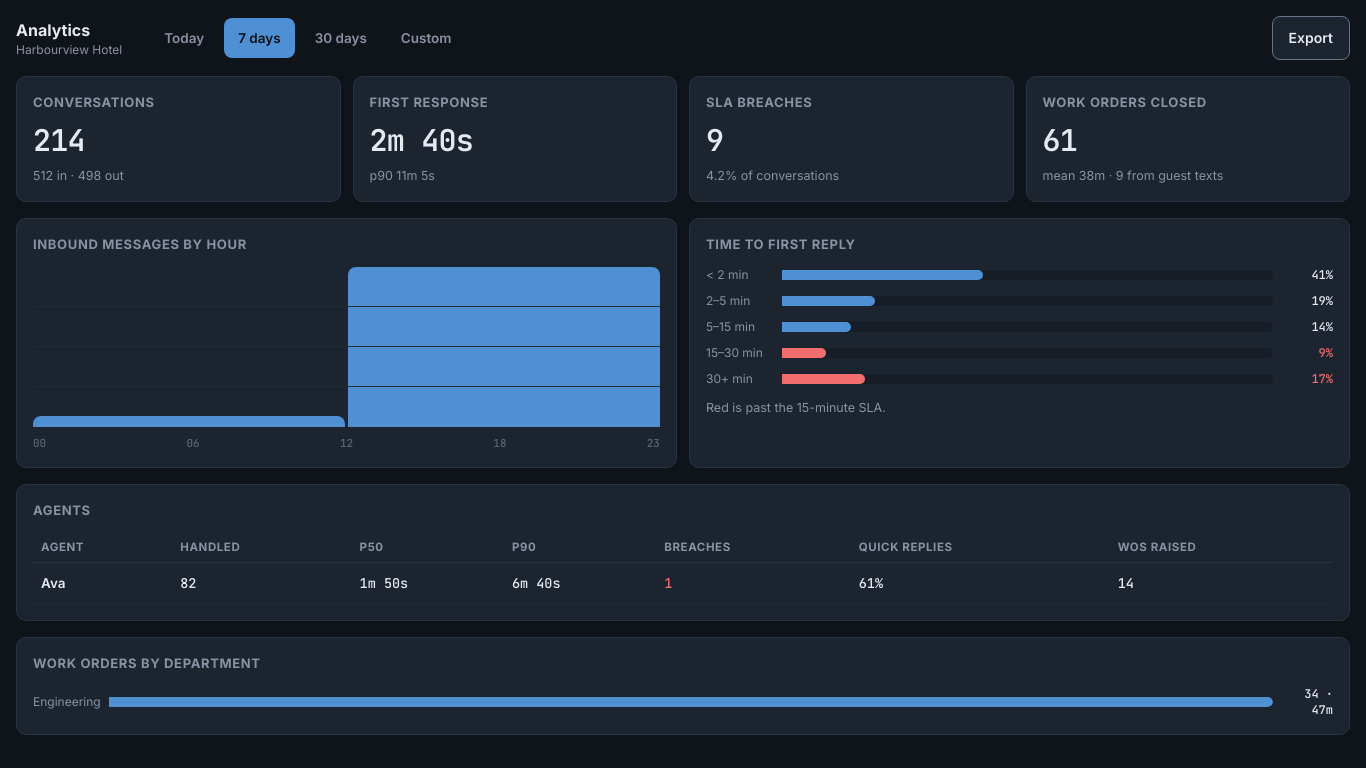
Test case: AnalyticsPage › rejects a custom range where from is after to, and does not fetch it
The image size is (1366, 768).
Check: the text "214" is shown, box [33,120,85,160]
Click the tab "Custom". click: (426, 38)
box: [387,18,466,58]
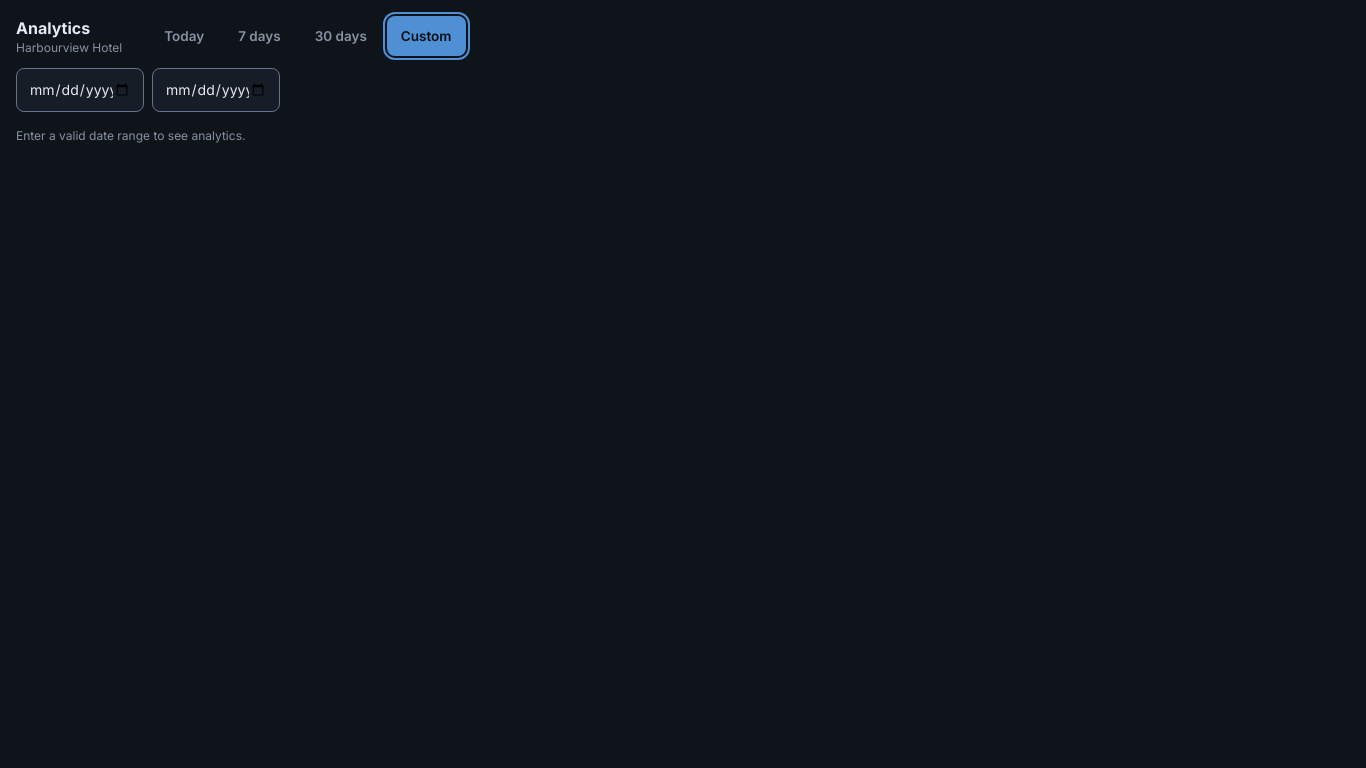
Type "2026-08-15" into the 1st date field. click: (80, 90)
box: [16,68,144,112]
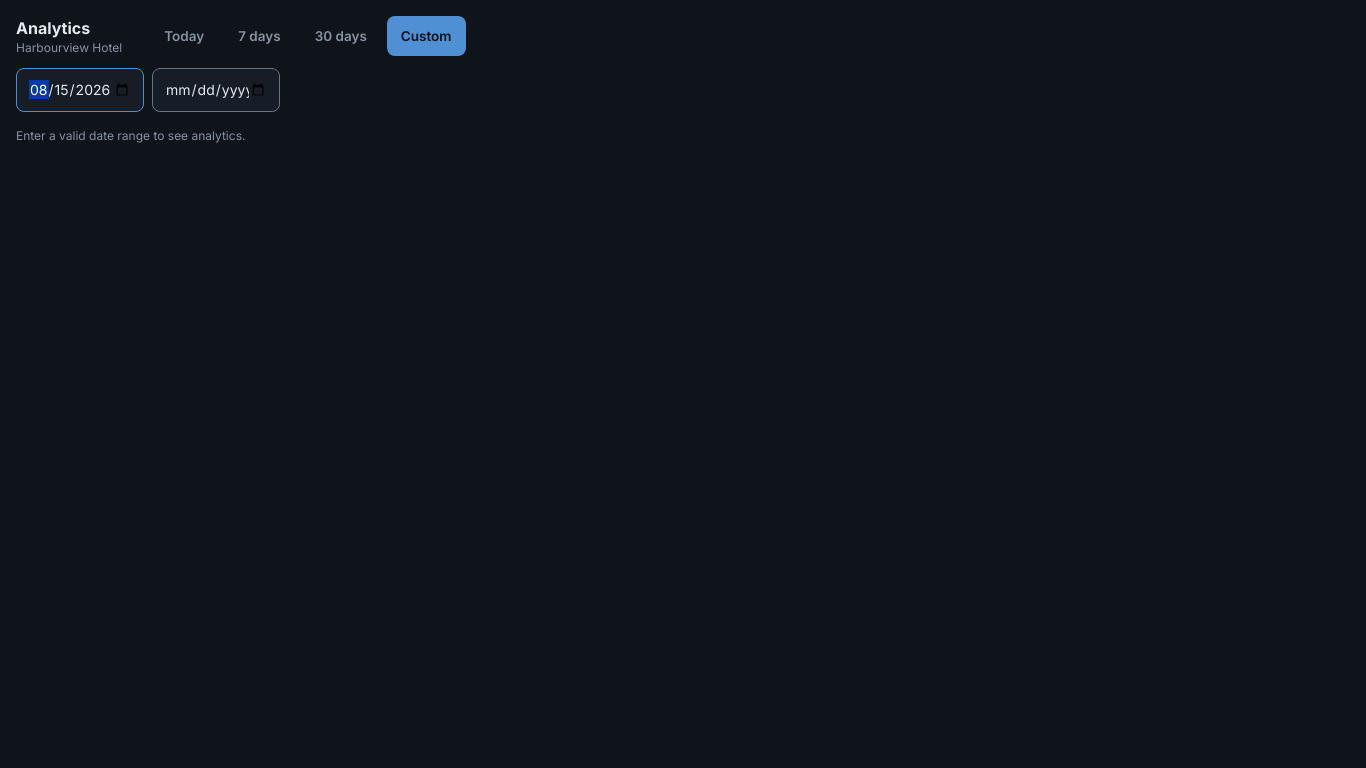
Type "2026-08-01" into the 2nd date field. click: (216, 90)
box: [152,68,280,112]
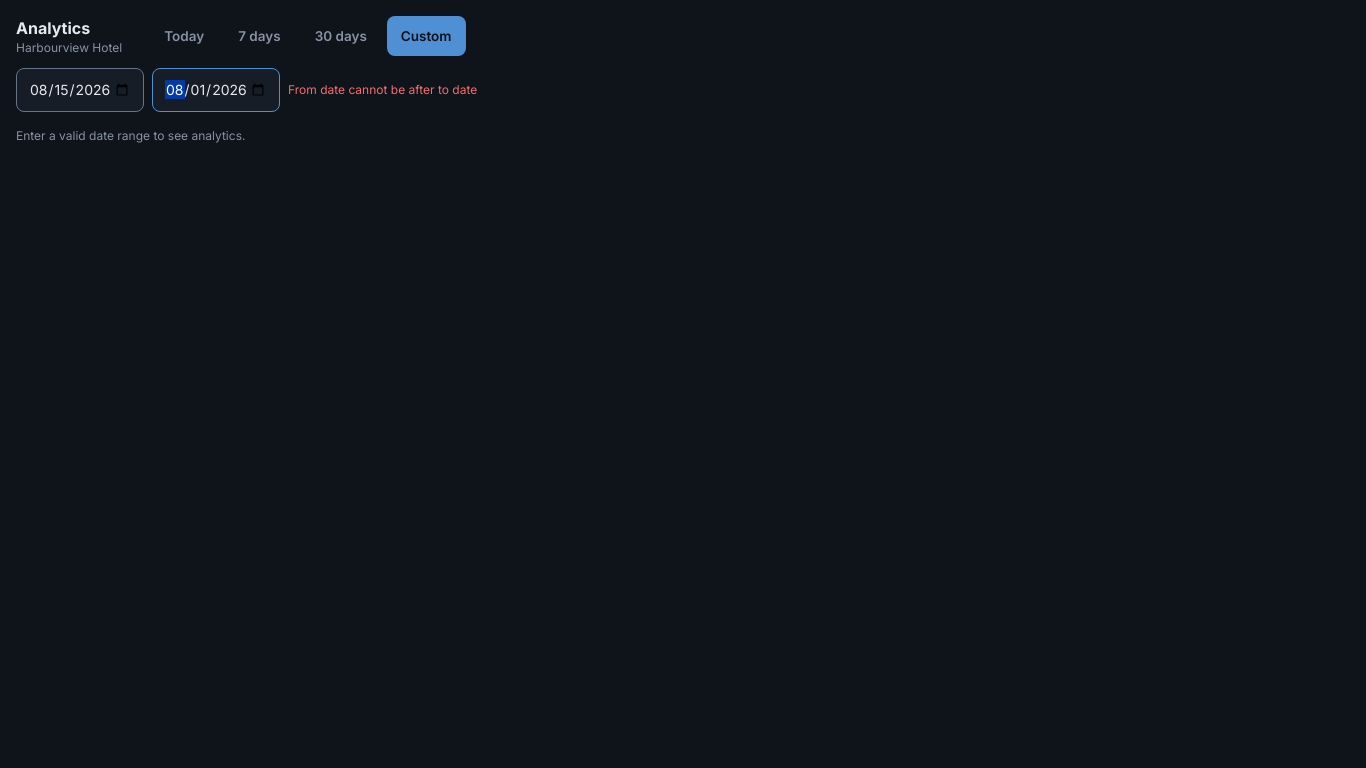
Check: the text "From date cannot be after to date" is shown, box [288,82,477,97]
